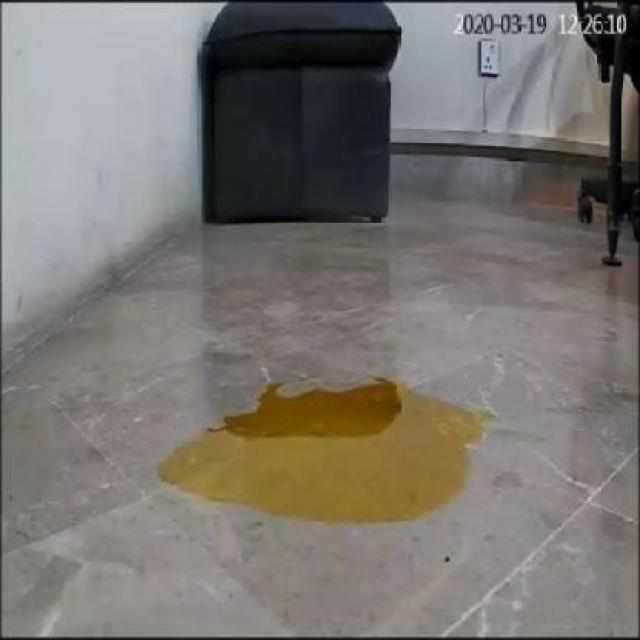spillage: (161, 380, 487, 522)
